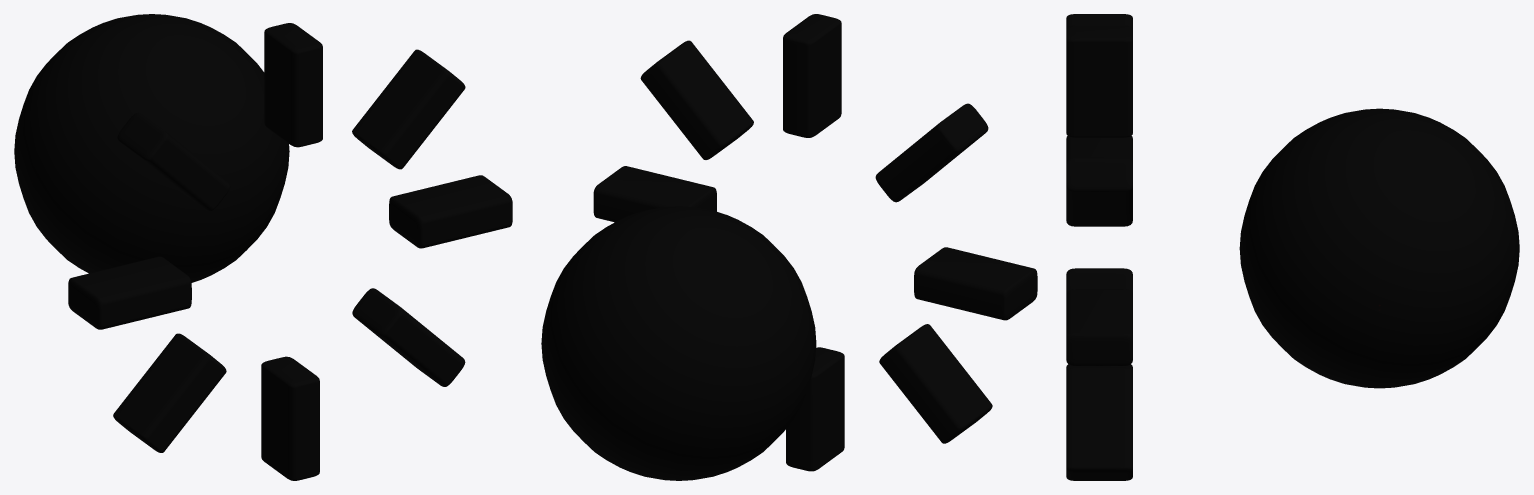
Rendered from vijay.glb.
3 renders of one model, left to right at view 1: azimuth 30°, elevation 25°; view 2: azimuth 150°, elevation 25°; view 3: azimuth 270°, elevation 25°, orthographic.
Visible parts, largest first — view 1: node_id36, node_id64, node_id94, node_id92, node_id98, node_id104, node_id96, node_id100, node_id102; view 2: node_id36, node_id94, node_id64, node_id92, node_id96, node_id98, node_id102, node_id104; view 3: node_id36, node_id100, node_id92, node_id104, node_id64, node_id96, node_id94, node_id102.
Boxes of the visible parts, x1,y1,x2,y2 form: node_id36: (14, 14, 289, 282); node_id64: (352, 49, 465, 169); node_id94: (113, 333, 226, 452); node_id92: (264, 23, 322, 147); node_id98: (261, 356, 319, 480); node_id104: (389, 175, 512, 248); node_id96: (68, 256, 191, 329); node_id100: (352, 288, 465, 386); node_id102: (117, 112, 230, 211); node_id36: (541, 206, 816, 480); node_id94: (879, 324, 992, 443); node_id64: (640, 40, 753, 159); node_id92: (783, 14, 841, 137); node_id96: (914, 247, 1037, 320); node_id98: (786, 347, 844, 471); node_id102: (875, 103, 988, 202); node_id104: (593, 166, 716, 222); node_id36: (1239, 108, 1519, 388); node_id100: (1066, 367, 1132, 480); node_id92: (1066, 25, 1132, 137); node_id104: (1066, 289, 1132, 365); node_id64: (1066, 157, 1132, 226); node_id96: (1066, 136, 1132, 162); node_id94: (1066, 268, 1132, 294); node_id102: (1066, 14, 1132, 29).
Bounding box in the file's own units: 0.892 × 0.8862 × 0.8291.
9 materials, 9 textured.
